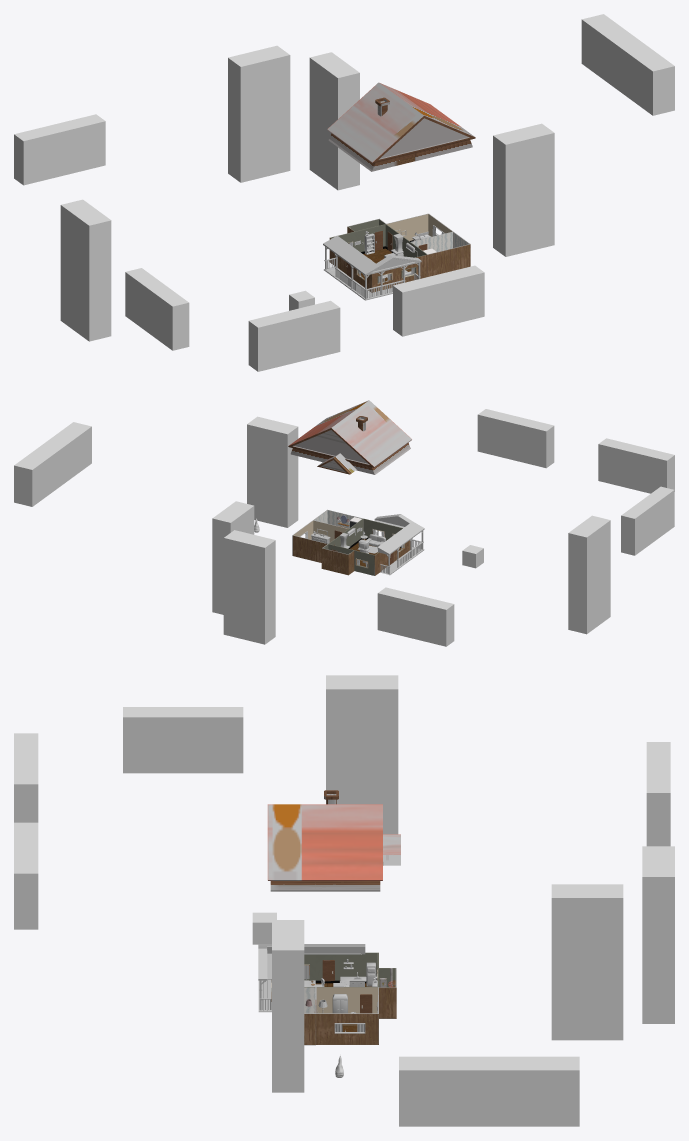
Rendered from CabinDetailed11.fbx.
3 views of the same model, one above another, from view 1: azimuth 30°, elevation 25°; view 2: azimuth 150°, elevation 25°; view 3: azimuth 270°, elevation 25° (orthographic). The views are drawn at different scales.
Visible parts, largest first — view 1: CutOut1, Cube.001, Wall, PorchRoof, Roof; view 2: CutOut1, Cube.001, Wall, PorchRoof, Roof, Cube.004, Cube.002; view 3: CutOut1, Cube.001, Wall, PorchRoof, Roof, Cube.002.
Boxes of the visible parts, x1,y1,x2,y2 form: CutOut1: [14, 14, 674, 371]; Cube.001: [327, 82, 475, 163]; Wall: [329, 213, 470, 292]; PorchRoof: [323, 235, 421, 298]; Roof: [328, 133, 472, 171]; CutOut1: [14, 409, 674, 646]; Cube.001: [288, 400, 411, 467]; Wall: [292, 509, 410, 575]; PorchRoof: [374, 514, 424, 574]; Roof: [290, 443, 410, 474]; Cube.004: [317, 453, 356, 474]; Cube.002: [462, 545, 483, 568]; CutOut1: [14, 675, 674, 1126]; Cube.001: [267, 804, 382, 880]; Wall: [304, 952, 396, 1044]; PorchRoof: [258, 944, 365, 1010]; Roof: [270, 881, 380, 891]; Cube.002: [252, 912, 276, 944].
Bounding box in the file's own units: 20923 × 5451 × 15364.
